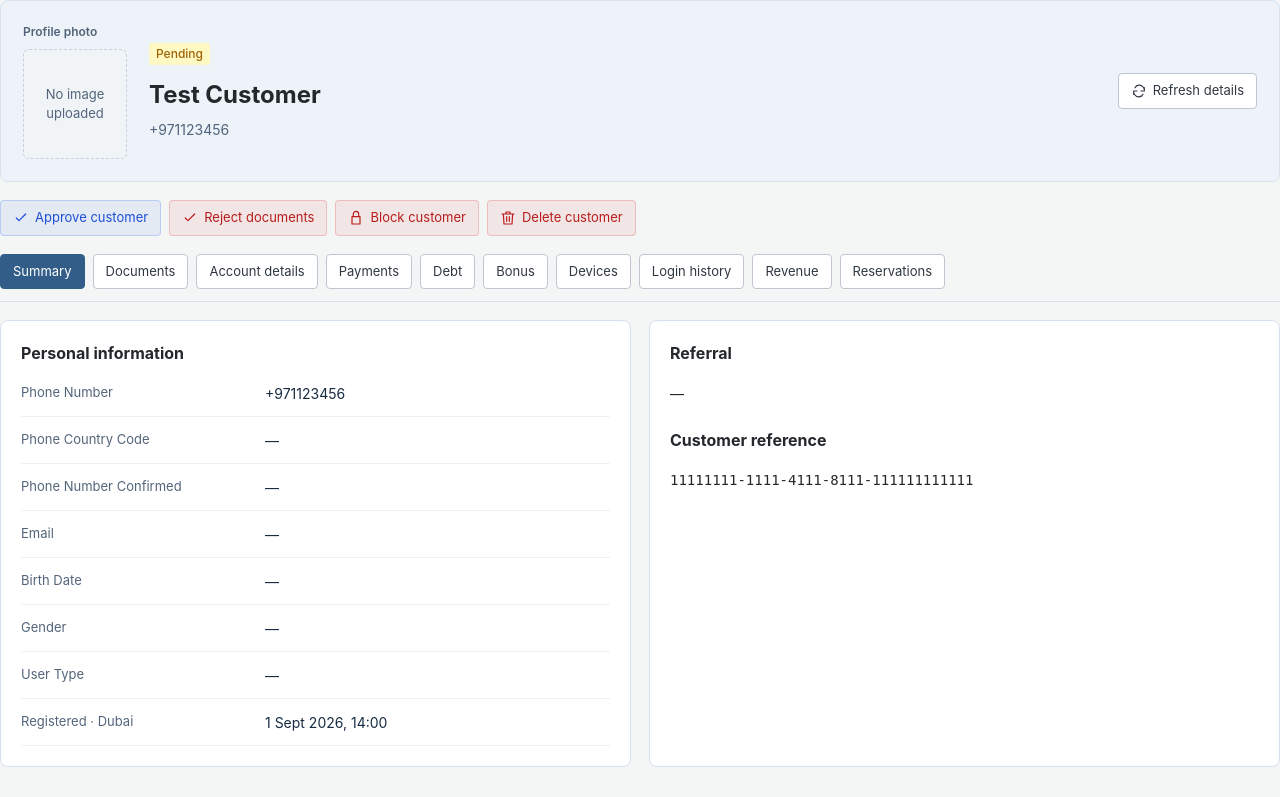
Scenario: shows server errors without claiming success and requires refresh
Click the button "Delete customer" at (561, 218), box [487,200,636,236]
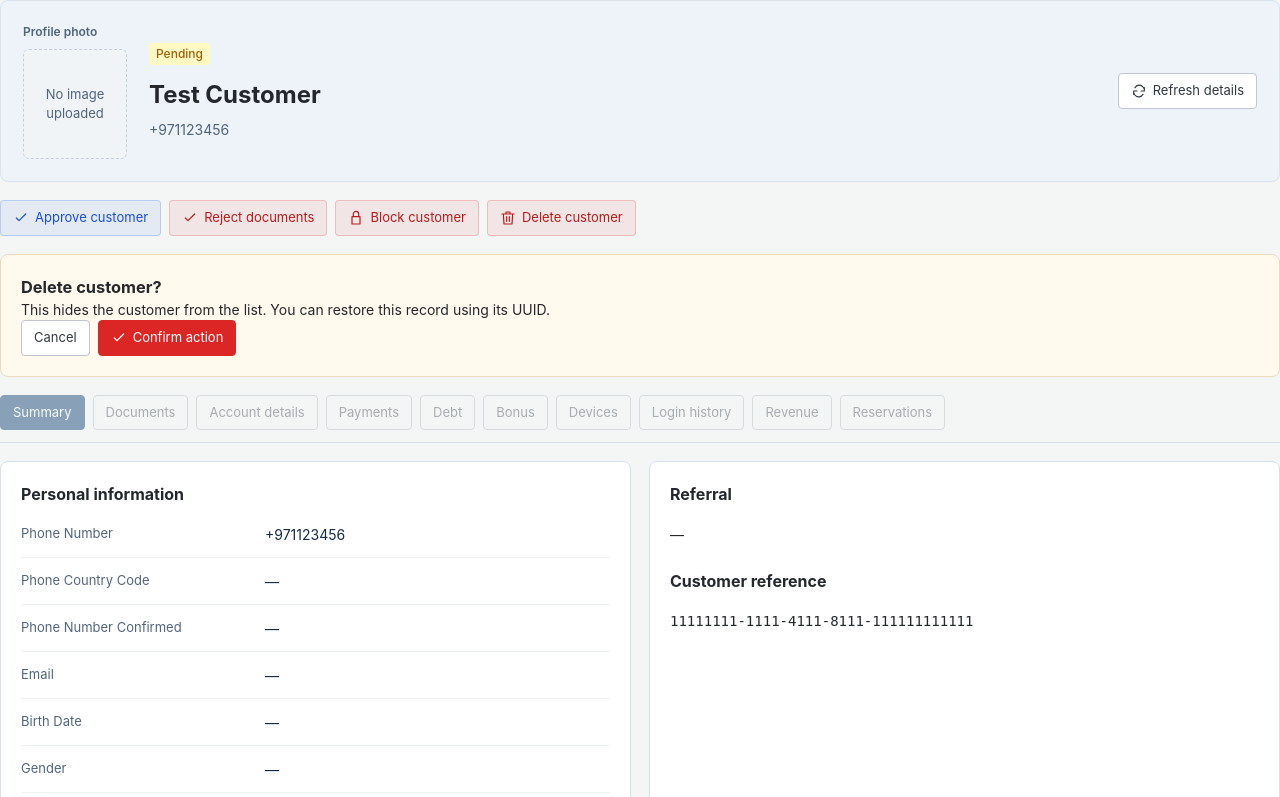
Click the button "Confirm action" at (167, 338), box [98,320,236,356]
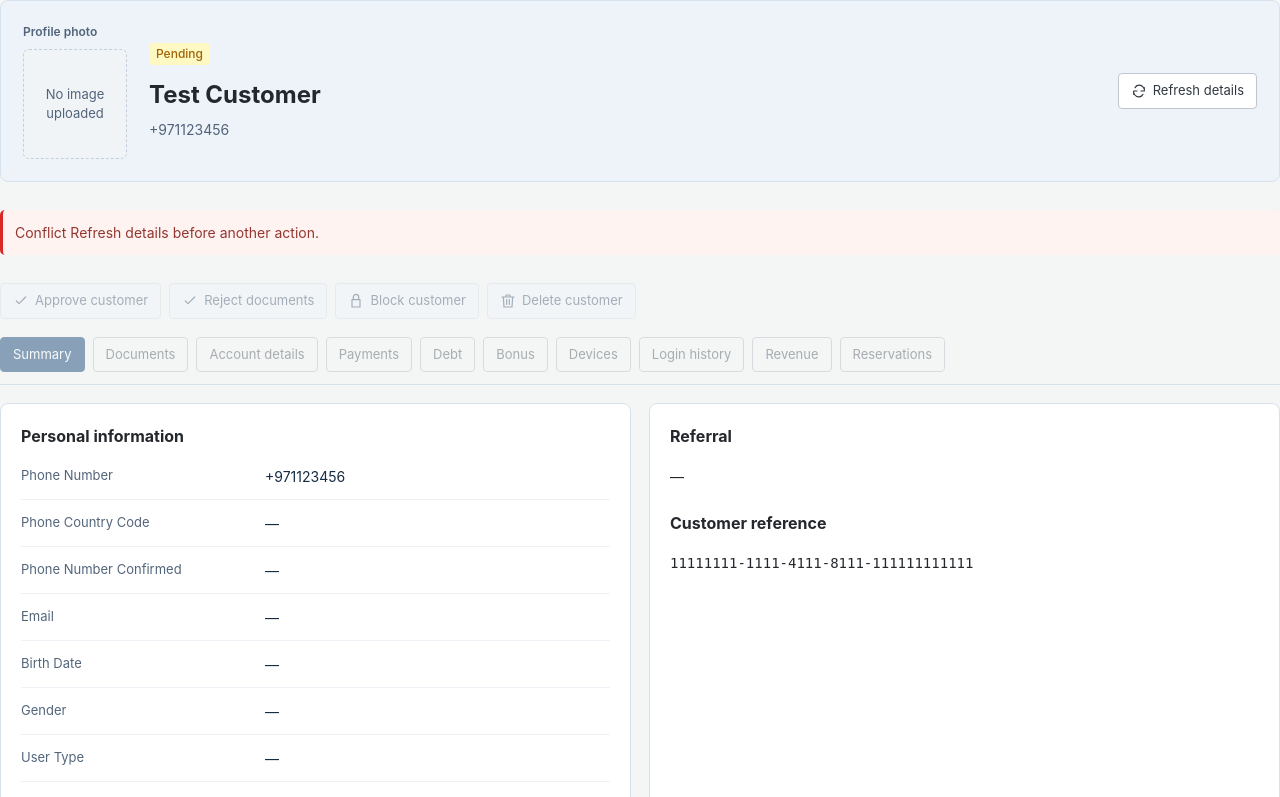
Result: the message shows "Conflict" at [15,224,319,241]
Result: the button "Delete customer" is disabled at [487,283,636,318]
